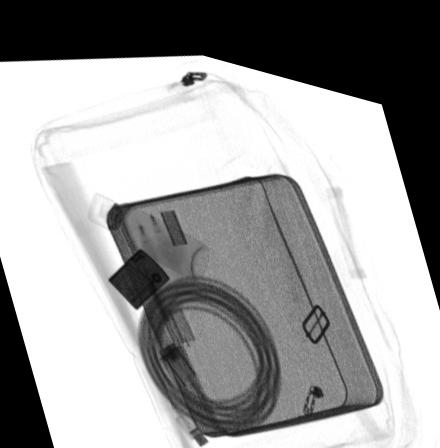Lighter: (107, 239, 169, 303)
Sprayer: (84, 187, 210, 269)
